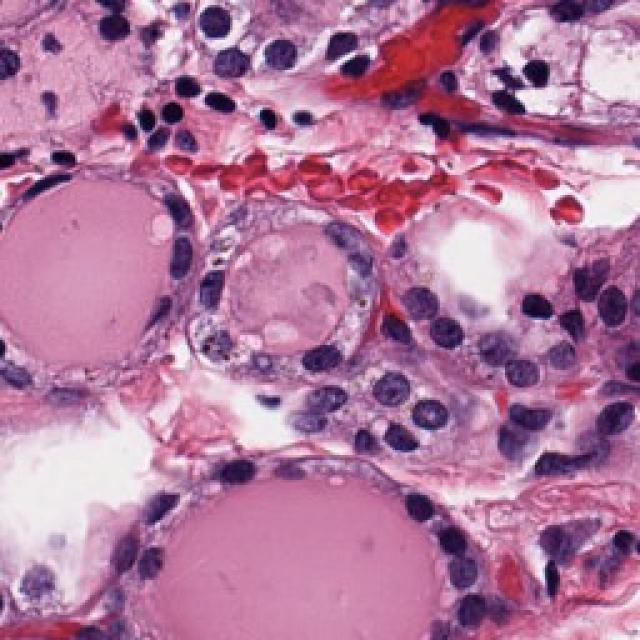normal: (470, 297, 556, 401), (383, 439, 457, 550), (470, 304, 547, 396), (379, 247, 449, 348), (13, 141, 91, 226), (150, 210, 230, 287), (498, 373, 564, 464), (555, 232, 625, 308), (118, 471, 204, 531), (535, 326, 602, 401), (297, 320, 367, 388), (205, 431, 265, 510), (440, 545, 504, 612)
